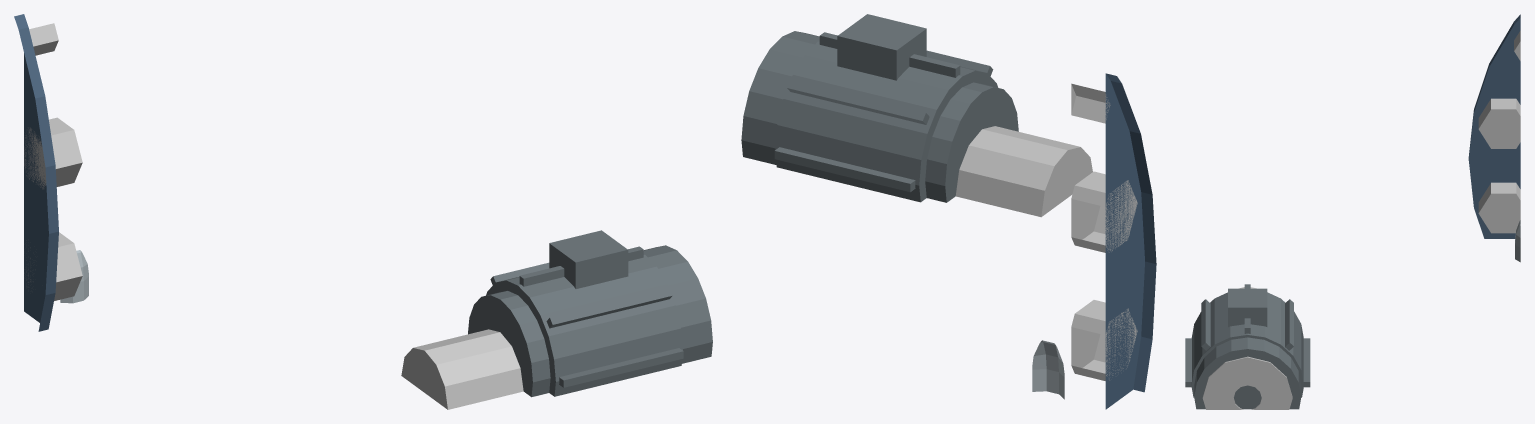
The model's file is cell_49.obj.
3 views of the same model, side by side, from view 1: azimuth 30°, elevation 25°; view 2: azimuth 150°, elevation 25°; view 3: azimuth 270°, elevation 25° (orthographic). The views are drawn at different scales.
Bounding box in the file's own units: 0.954 × 0.5634 × 0.7743.
